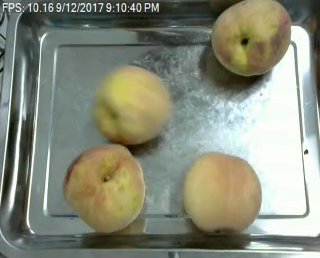Peach: (63, 144, 146, 233), (183, 152, 261, 236), (210, 0, 292, 77), (93, 64, 170, 144)
